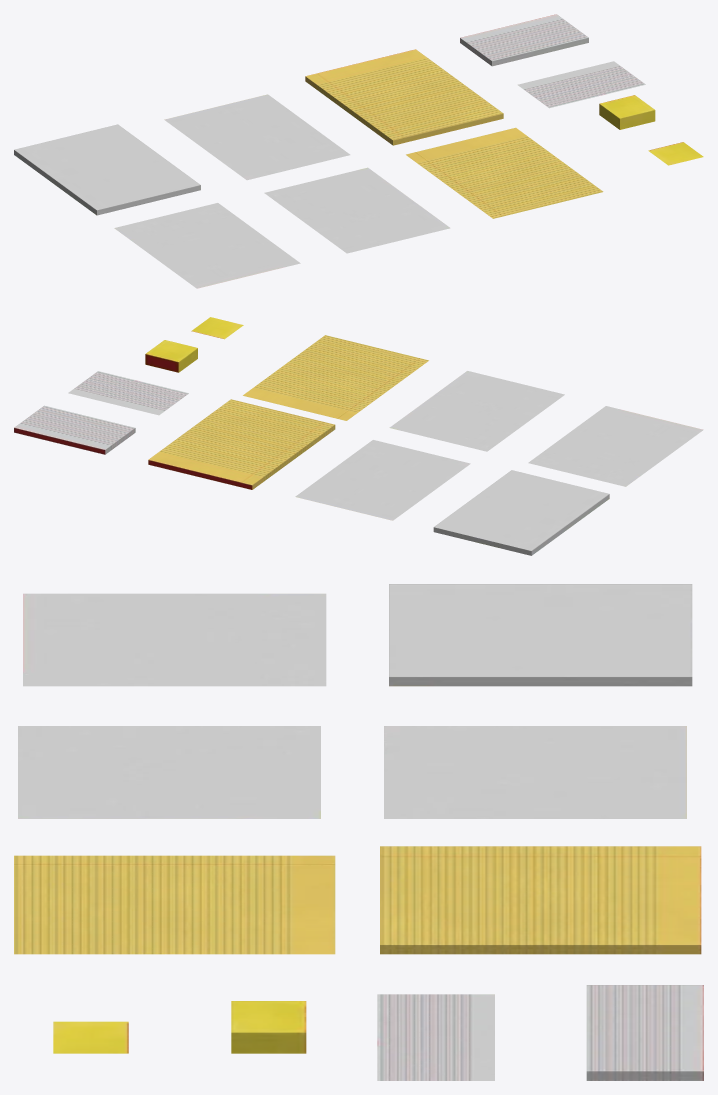
Rendered from office_notepads.glb.
The picture shows the model from 3 angles, top to bottom: view 1: azimuth 30°, elevation 25°; view 2: azimuth 150°, elevation 25°; view 3: azimuth 270°, elevation 25°; orthographic projection. The views are drawn at different scales.
Visible parts, largest first — view 1: office_notepads_yellow_sheet; view 2: office_notepads_yellow_sheet; view 3: office_notepads_yellow_sheet.
Boxes of the visible parts, left/top/right/bottom form: office_notepads_yellow_sheet: left=14, top=14, right=703, bottom=288; office_notepads_yellow_sheet: left=14, top=317, right=703, bottom=555; office_notepads_yellow_sheet: left=14, top=584, right=703, bottom=1080.
Size of the model in its own units: 1.1 by 0.0219 by 0.6598.
1 material, 1 textured.
